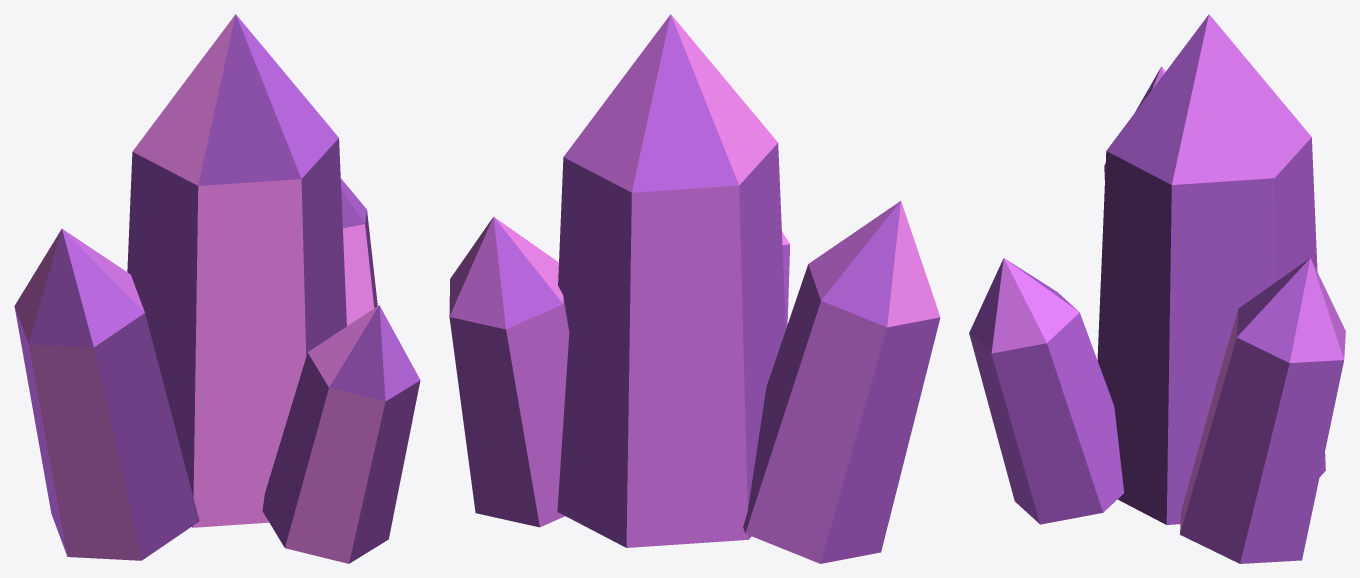
The model's file is Amethyst.glb.
The picture shows the model from 3 angles, left to right: view 1: azimuth 30°, elevation 25°; view 2: azimuth 150°, elevation 25°; view 3: azimuth 270°, elevation 25°; orthographic projection. The views are drawn at different scales.
Visible parts, largest first — view 1: Amethyst_main_crystal, Amethyst_left_crystal, Amethyst_front_crystal, Amethyst_right_crystal; view 2: Amethyst_main_crystal, Amethyst_left_crystal, Amethyst_right_crystal; view 3: Amethyst_main_crystal, Amethyst_right_crystal, Amethyst_front_crystal.
Boxes of the visible parts, bbox=[...] form: Amethyst_main_crystal: bbox=[127, 14, 346, 527]; Amethyst_left_crystal: bbox=[14, 229, 199, 560]; Amethyst_front_crystal: bbox=[262, 305, 420, 563]; Amethyst_right_crystal: bbox=[340, 178, 377, 325]; Amethyst_main_crystal: bbox=[557, 14, 785, 547]; Amethyst_left_crystal: bbox=[743, 201, 940, 563]; Amethyst_right_crystal: bbox=[449, 216, 569, 527]; Amethyst_main_crystal: bbox=[1097, 14, 1325, 524]; Amethyst_right_crystal: bbox=[1180, 258, 1345, 563]; Amethyst_front_crystal: bbox=[969, 258, 1124, 524].
Bounding box in the file's own units: 0.7082 × 0.8108 × 0.5736.
